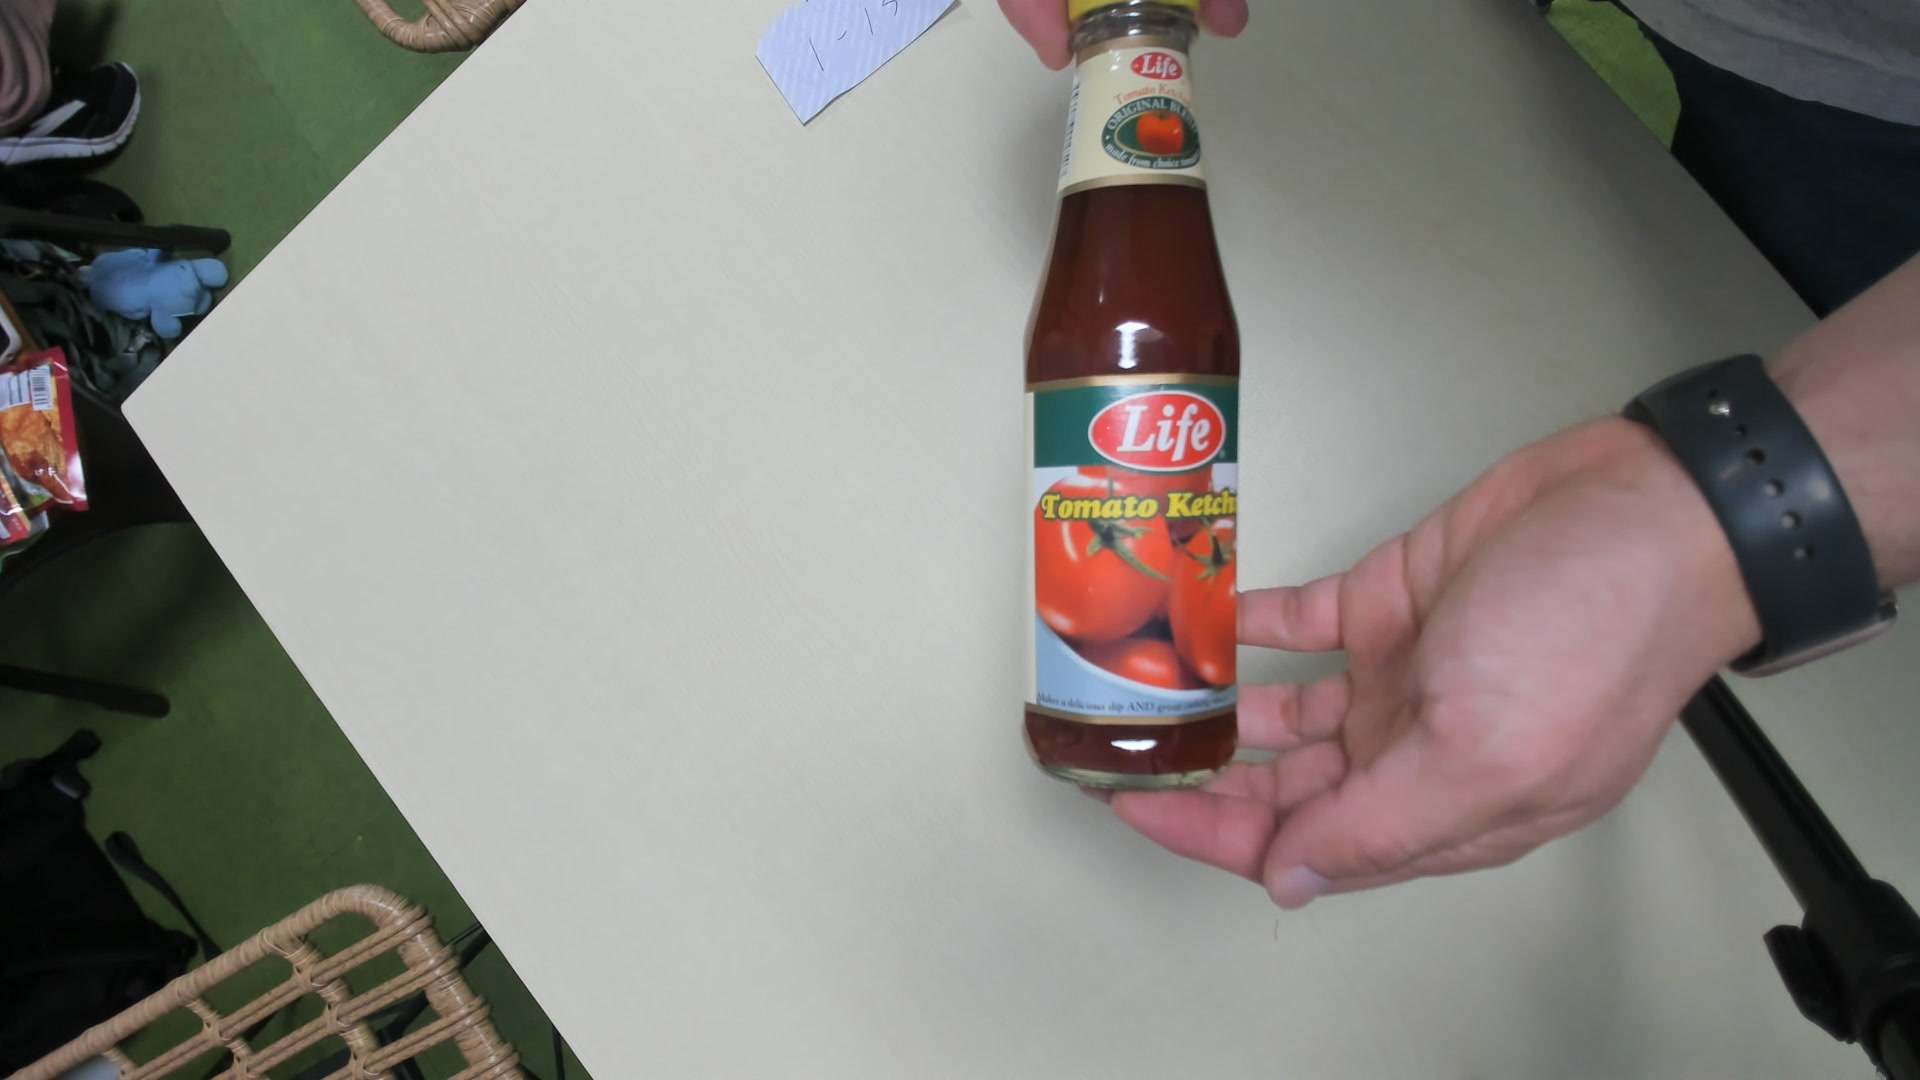KetchupChillSauce_300-399g_Halal_NonHealthy: (1023, 1, 1244, 796)
